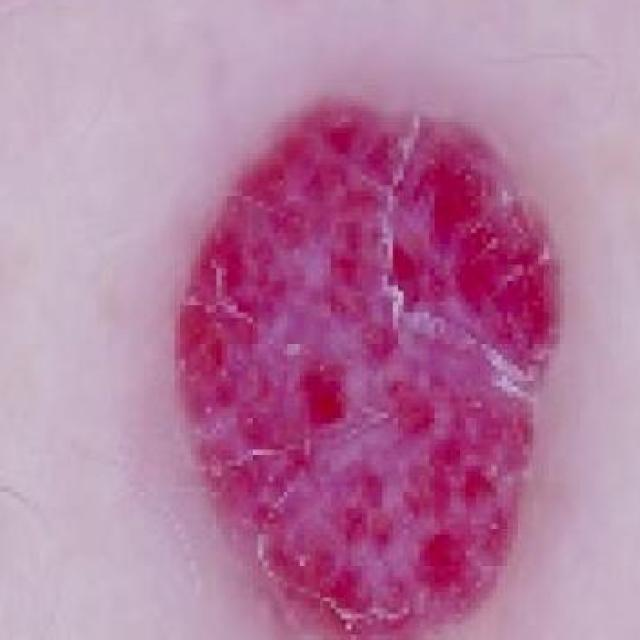VASC: (63, 0, 640, 640)
